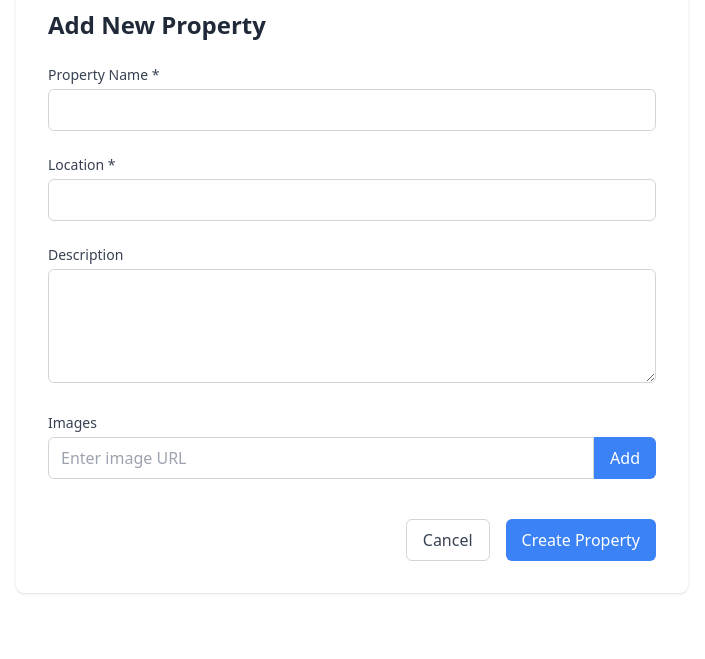
Test: PropertyForm › shows validation errors when submitting empty form
Note: Submit the form without filling any fields
What coordinates should you click on to do the following:
click the button "Create Property"
I would click on:
 (581, 540)
Its box is [506,519,656,561].
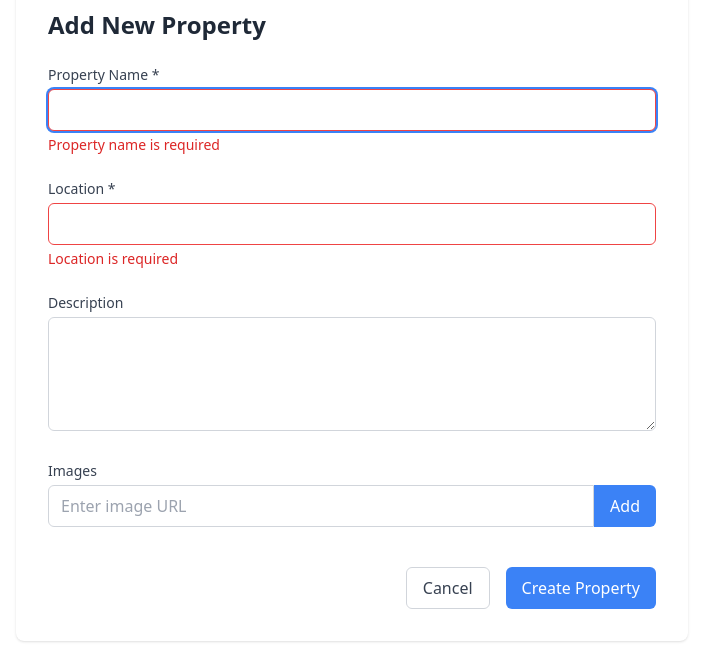
Check: the text "Property name is required" is shown, box [48,135,220,154]
Check: the text "Location is required" is shown, box [48,249,178,268]
